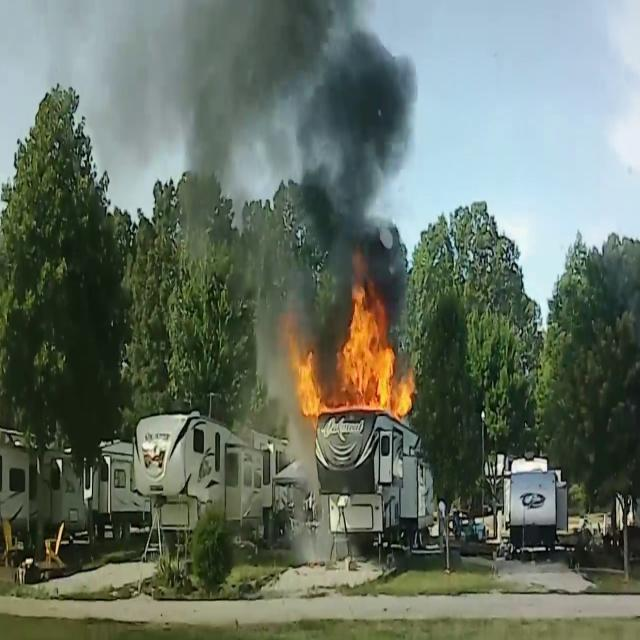Fire: (323, 282, 413, 418), (284, 334, 326, 424)
Smoke: (128, 0, 420, 335)
